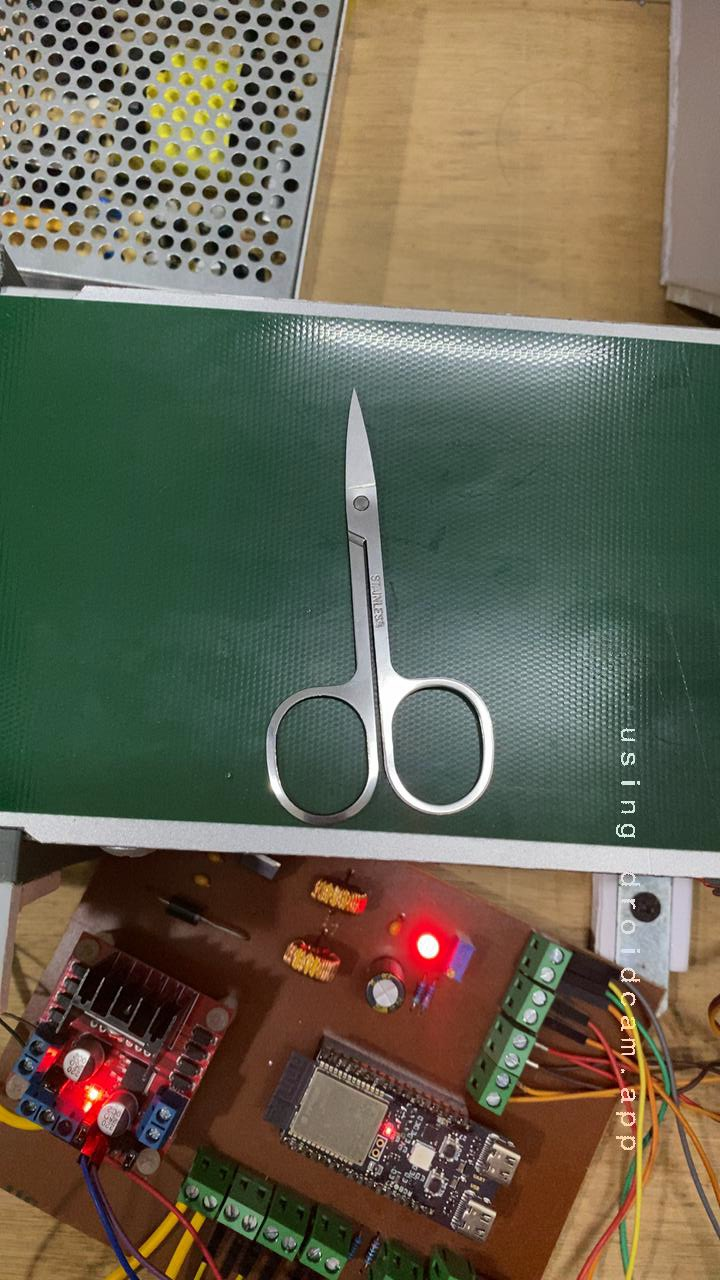scissor: (214, 399, 517, 840)
